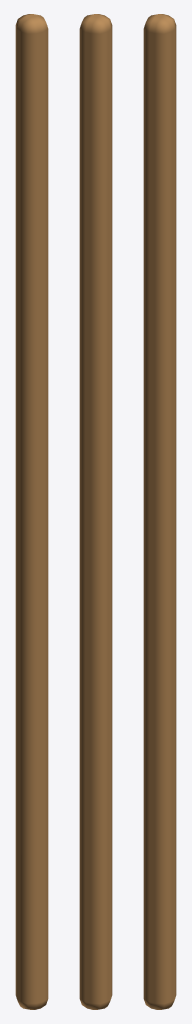
The model's file is finish-peg-6.5-light.glb.
3 renders of one model, left to right at view 1: azimuth 30°, elevation 25°; view 2: azimuth 150°, elevation 25°; view 3: azimuth 330°, elevation 25°, orthographic.
Visible parts, largest first — view 1: wood; view 2: wood; view 3: wood.
Boxes of the visible parts, <box> form: wood: <box>15,14,48,1009</box>; wood: <box>79,14,112,1009</box>; wood: <box>143,14,176,1009</box>.
Bounding box in the file's own units: 0.2 × 7 × 0.2.
